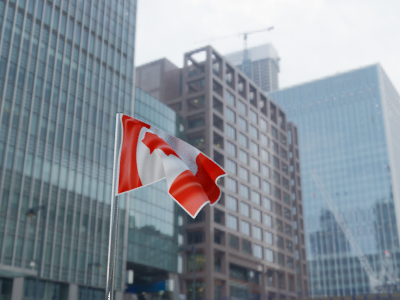Canada flag: (115, 112, 226, 219)
